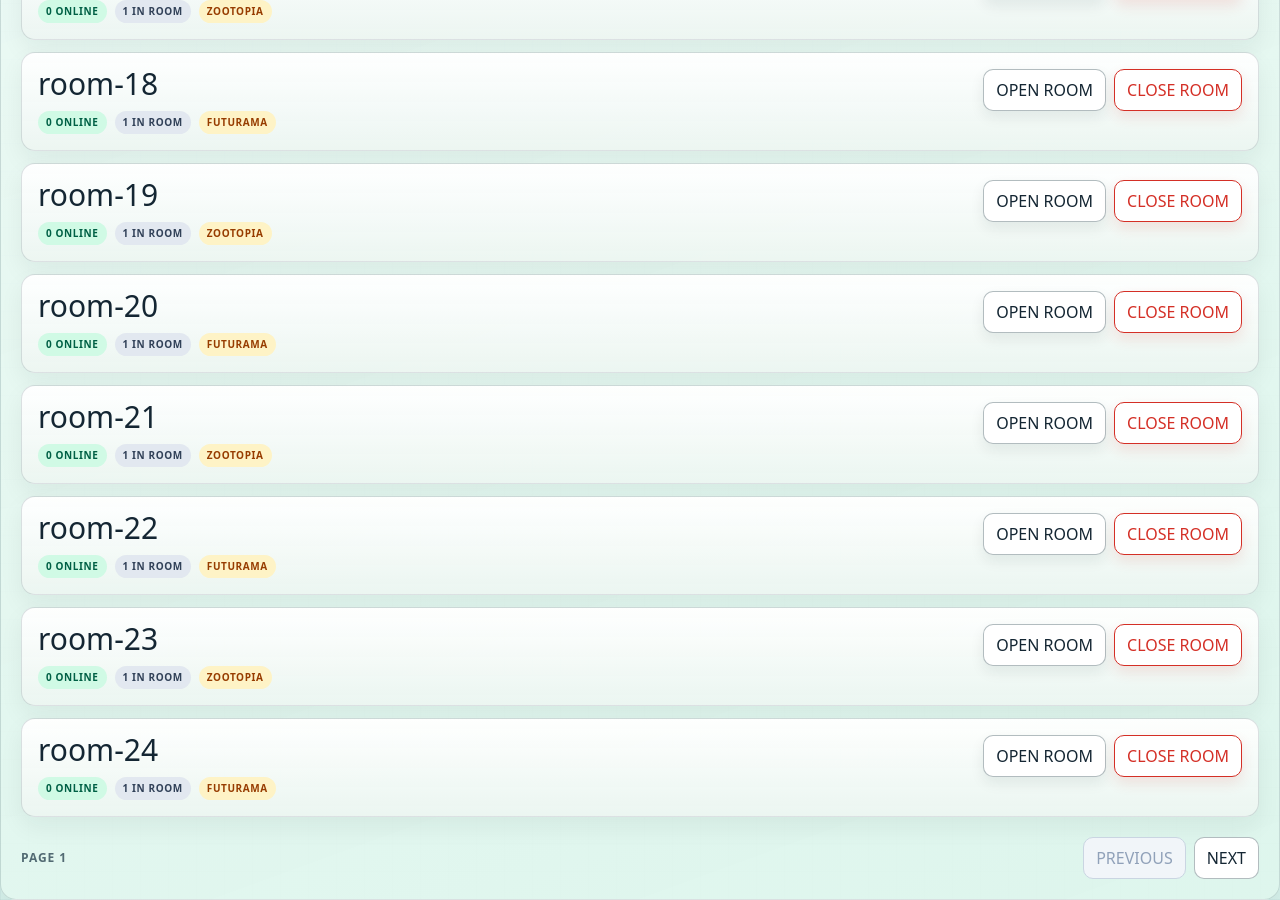
Test: RoomsPage › paginates forward when a full page is loaded
(page scrolled)
Click the button "Next" at (1226, 858), box [1194,837,1259,879]
(page scrolled)
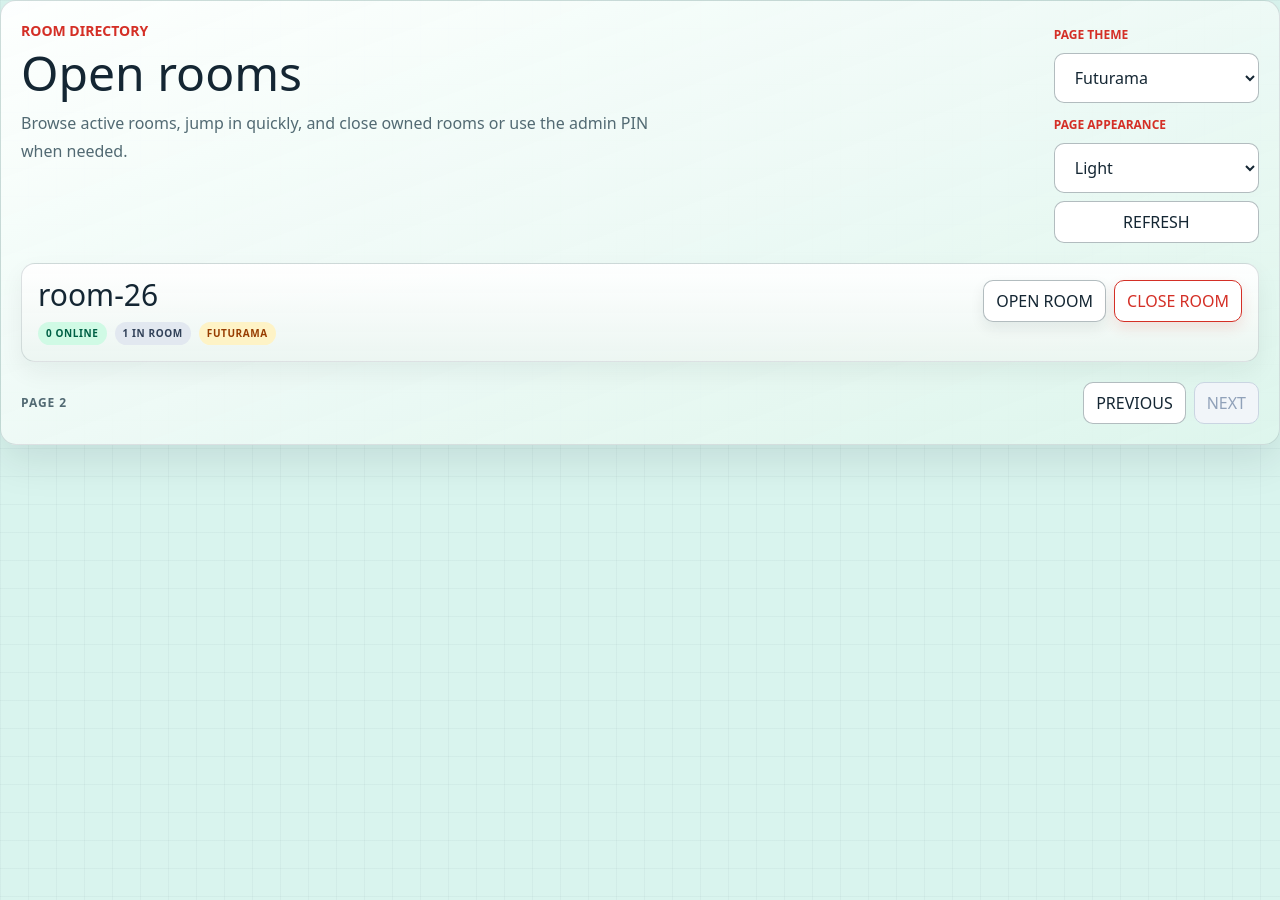
Expected: the heading "room-26" is shown, [38,274,158,315]
